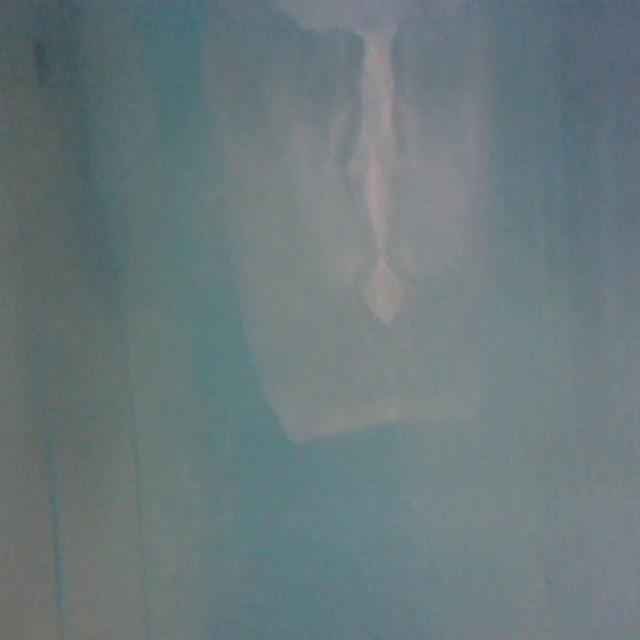plastic bags: (208, 1, 499, 436)
